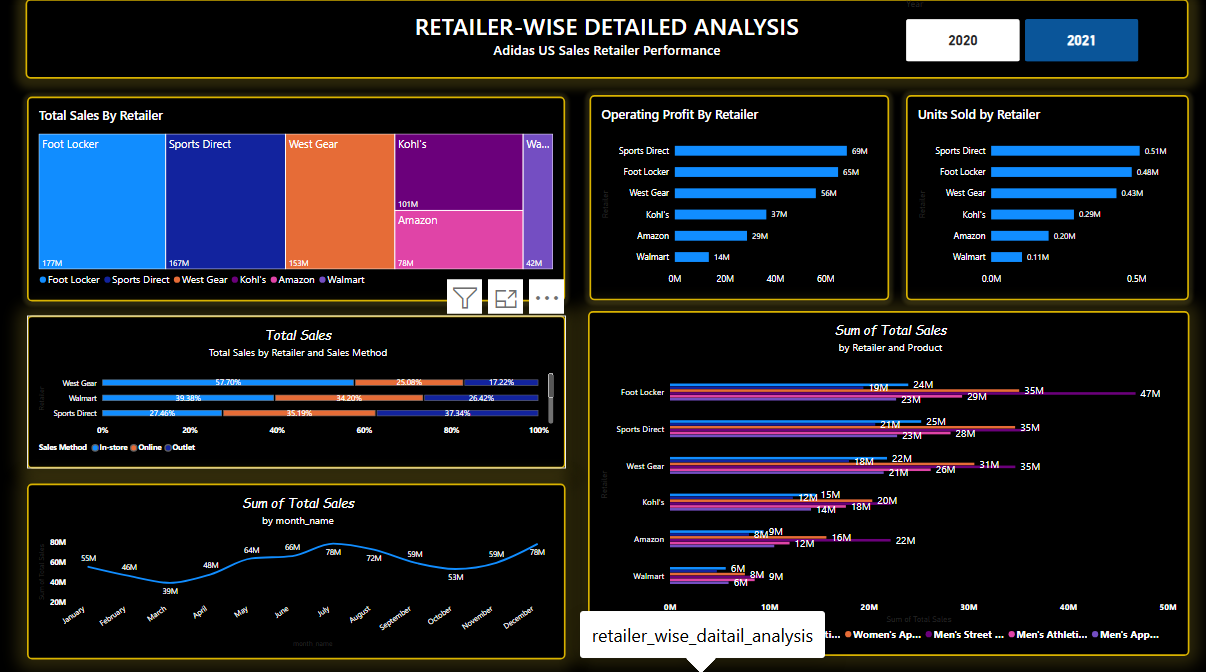

The dashboard page shown, as its layout file describes it:
{"tool":"powerbi","page":{"name":"customer_wise_daitail_analysis","canvas":[1920,1080],"ordinal":2},"visuals":[{"type":"treemap","title":"Total Sales By Retailer","fields":{"Group":["Adidas Sales.Retailer"],"Values":["Sum(Adidas Sales.Total Sales)"]},"box":[44,154,856,326],"z":0},{"type":"textbox","box":[40,0,1850,126.7],"z":1000},{"type":"clusteredBarChart","title":"Operating Profit By Retailer","fields":{"Y":["Sum(Adidas Sales.Operating Profit)"],"Category":["Adidas Sales.Retailer"]},"box":[936.7,153.3,476.7,326.7],"z":2000},{"type":"clusteredBarChart","title":"Units Sold by Retailer","fields":{"Category":["Adidas Sales.Retailer"],"Y":["Sum(Adidas Sales.Units Sold)"]},"box":[1440,153.3,450,326.7],"z":3000},{"type":"hundredPercentStackedBarChart","title":"Total Sales","fields":{"Category":["Adidas Sales.Retailer"],"Y":["Sum(Adidas Sales.Total Sales)"],"Series":["Adidas Sales.Sales Method"]},"box":[43.3,503.3,856.7,243.3],"z":4000},{"type":"clusteredBarChart","fields":{"Category":["Adidas Sales.Retailer"],"Y":["Sum(Adidas Sales.Total Sales)"],"Series":["Adidas Sales.Product"]},"box":[935.3,496.3,956.8,548.8],"z":5000},{"type":"lineChart","fields":{"Category":["Date_matster_table.month_name"],"Y":["Sum(Adidas Sales.Total Sales)"]},"box":[43.3,770,856.7,280],"z":6000},{"type":"advancedSlicerVisual","fields":{"Values":["Date_matster_table.Year"]},"box":[1440,0,370,100],"z":7000}]}

Visuals, with their boxes in screenshot pixels (x1, y1, x2, y2), scaled from the page's 1920x1080 canvas onto the 1206x672 screenshot:
"Total Sales By Retailer" treemap: box(28, 96, 565, 299)
textbox: box(25, 0, 1187, 79)
"Operating Profit By Retailer" clusteredBarChart: box(588, 95, 888, 299)
"Units Sold by Retailer" clusteredBarChart: box(905, 95, 1187, 299)
"Total Sales" hundredPercentStackedBarChart: box(27, 313, 565, 465)
clusteredBarChart - Adidas Sales.Retailer x Sum(Adidas Sales.Total Sales): box(587, 309, 1188, 650)
lineChart - Date_matster_table.month_name x Sum(Adidas Sales.Total Sales): box(27, 479, 565, 653)
advancedSlicerVisual - Date_matster_table.Year: box(905, 0, 1137, 62)
